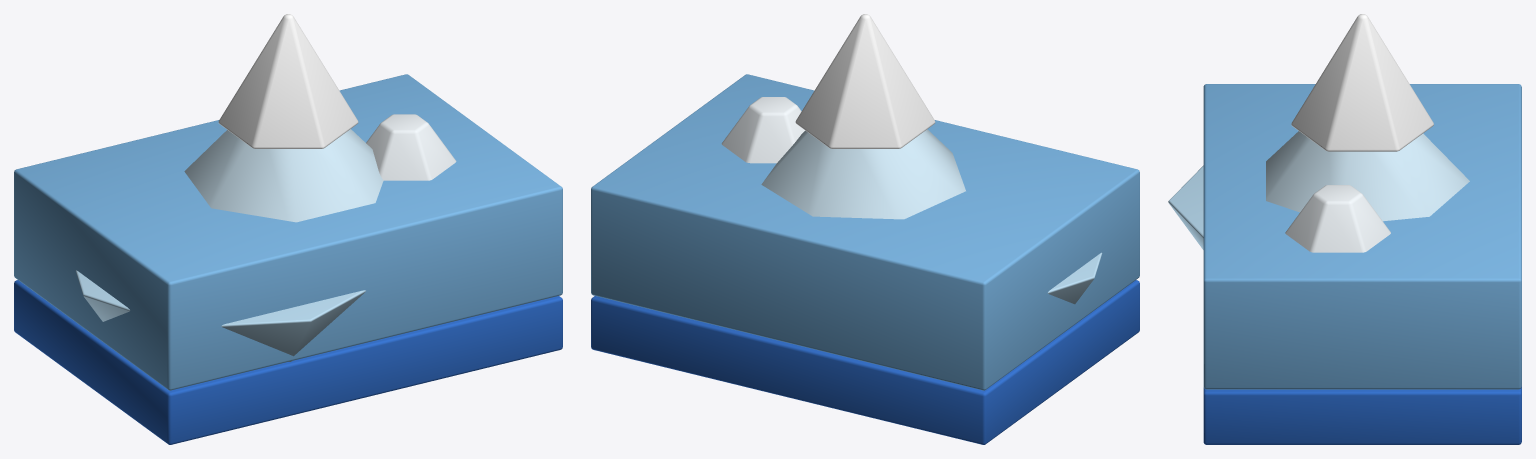
The model's file is iceberg_mini.glb.
3 renders of one model, left to right at view 1: azimuth 30°, elevation 25°; view 2: azimuth 150°, elevation 25°; view 3: azimuth 270°, elevation 25°, orthographic.
Visible parts, largest first — view 1: iceberg_mini; view 2: iceberg_mini; view 3: iceberg_mini.
Part boxes in pixels (x1=…): iceberg_mini: x1=14, y1=14, x2=562, y2=444; iceberg_mini: x1=591, y1=14, x2=1139, y2=444; iceberg_mini: x1=1168, y1=14, x2=1521, y2=444.
Bounding box in the file's own units: 1.99 × 1.5 × 1.44.
